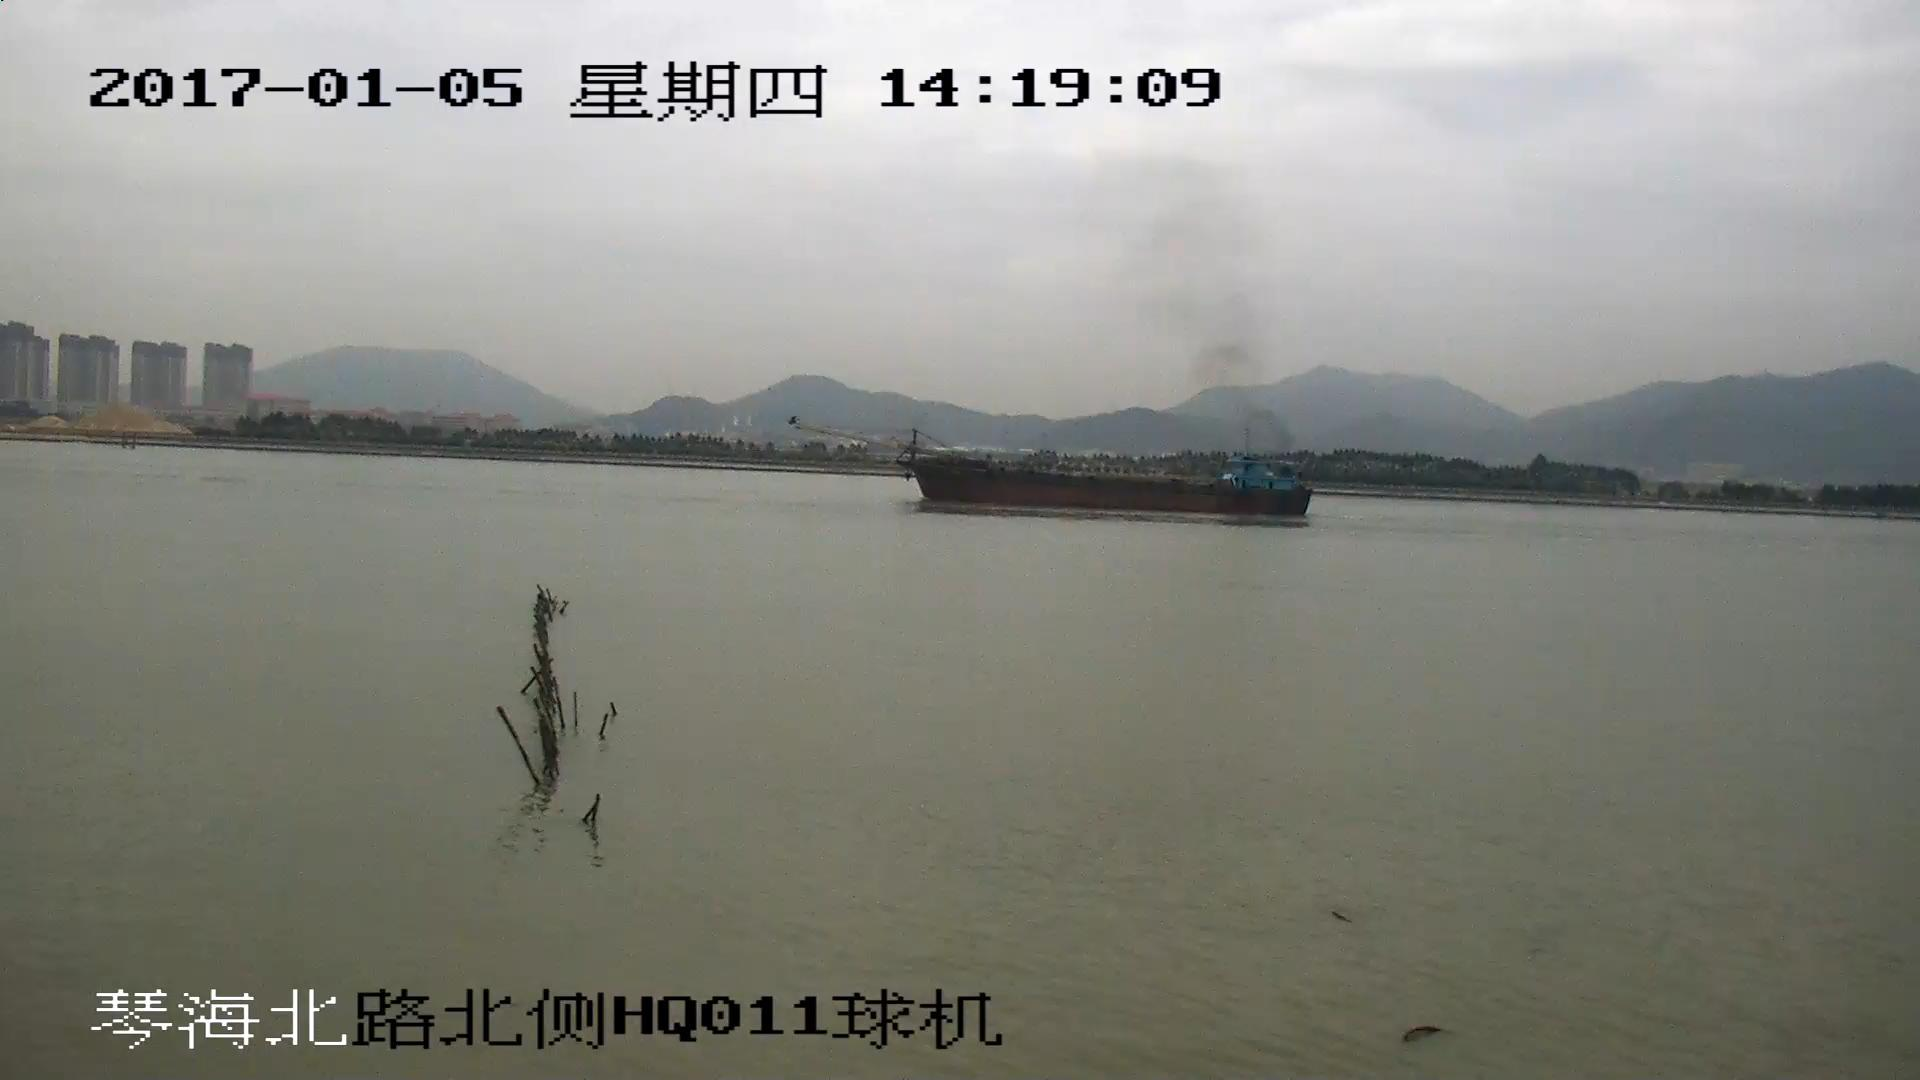Ship: (796, 422, 1313, 517)
